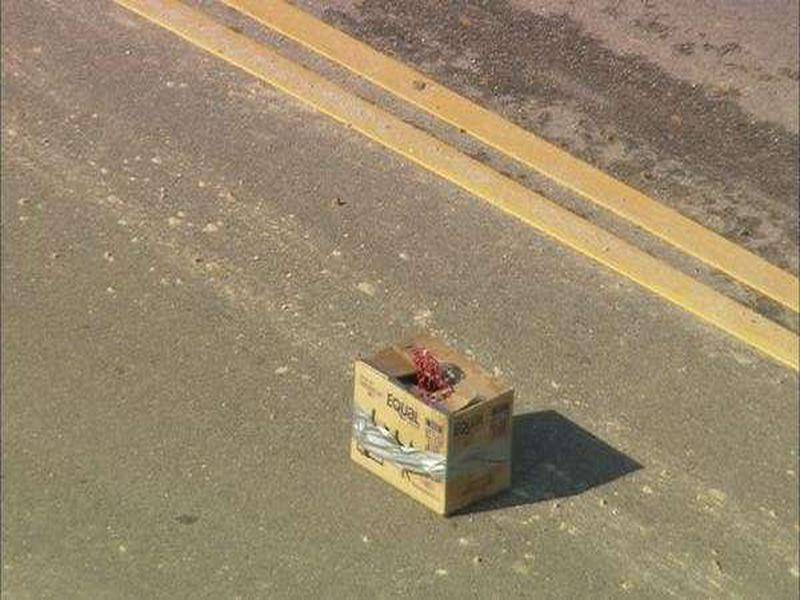cardboard: (339, 324, 526, 519)
